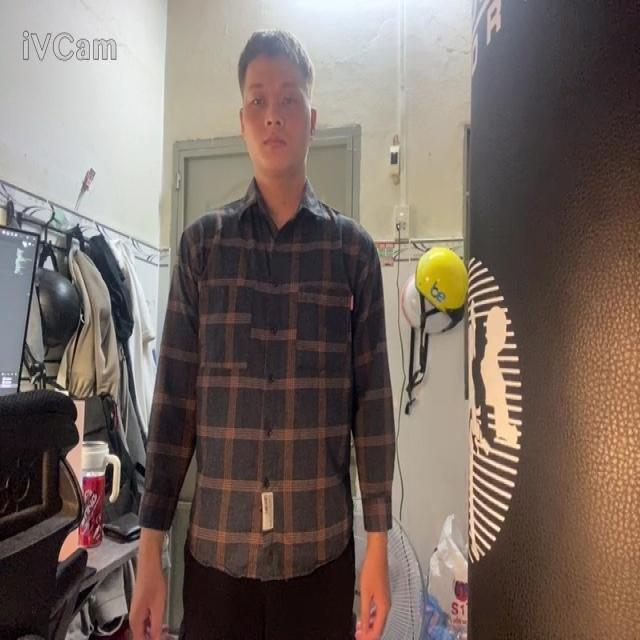u: (141, 181, 393, 580)
